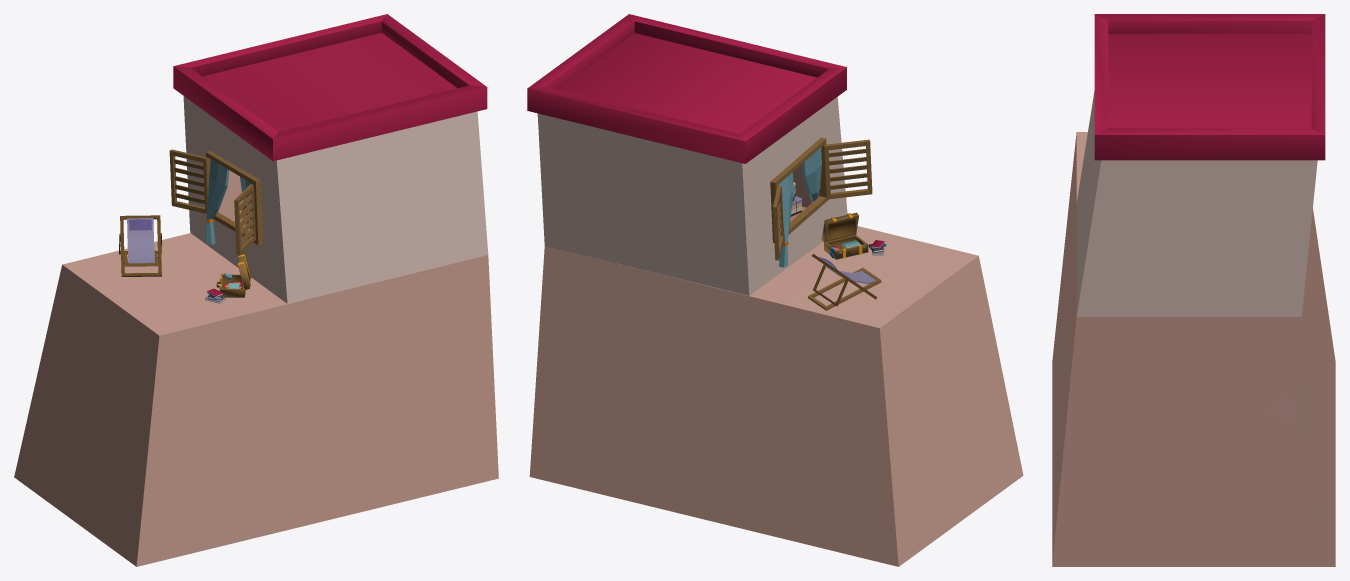
File: SM_Home.fbx
3 views of the same model, side by side, from view 1: azimuth 30°, elevation 25°; view 2: azimuth 150°, elevation 25°; view 3: azimuth 270°, elevation 25° (orthographic). The views are drawn at different scales.
Visible parts, largest first — view 1: pisoArriba, hamaca.001, window, ventana1, ventana2, maleta; view 2: pisoArriba, ventana2, window, maleta, hamaca.001, ventana1; view 3: pisoArriba.
Boxes of the visible parts, x1,y1,x2,y2 form: pisoArriba: (14,14,498,566); hamaca.001: (119,215,161,276); window: (206,151,263,245); ventana1: (169,149,209,213); ventana2: (234,184,255,255); maleta: (216,252,251,297); pisoArriba: (527,14,1023,566); ventana2: (824,139,872,199); window: (770,137,828,242); maleta: (821,212,868,259); hamaca.001: (808,254,881,310); ventana1: (773,185,783,260); pisoArriba: (1052,14,1335,566).
Bounding box in the file's own units: 715 × 697 × 411.
